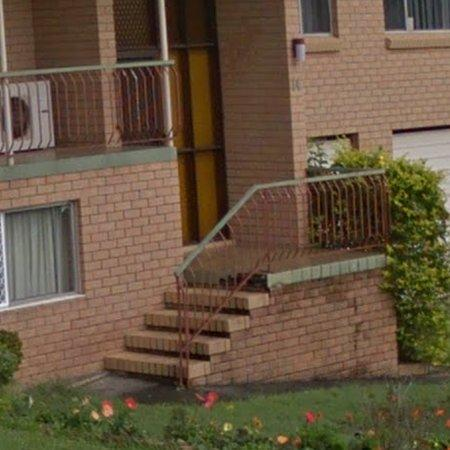stairs: (104, 243, 271, 384)
